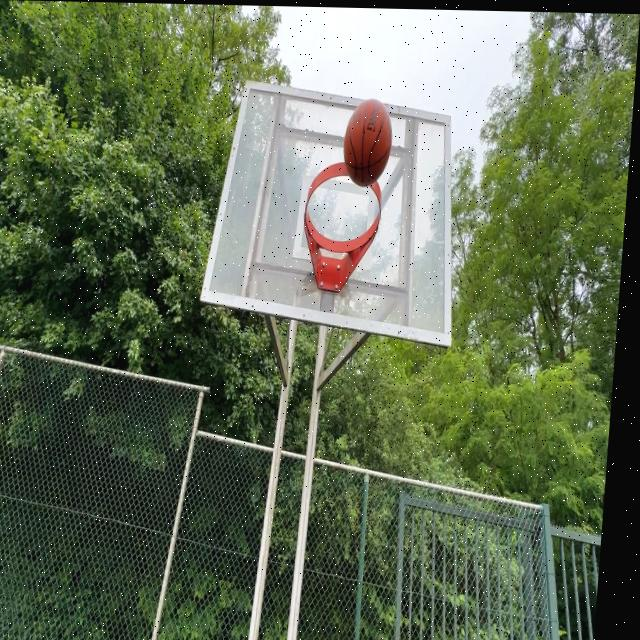rebound_hit: (341, 100, 394, 187)
